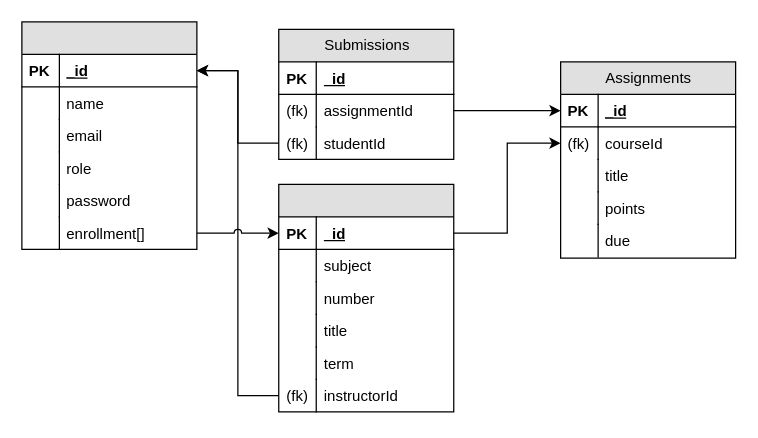
Image size: 758x438. Some labels were removed from this diagram. Each missing label, with the box of its shape:
Courses: (278, 183, 454, 412)
Users: (21, 21, 197, 249)
